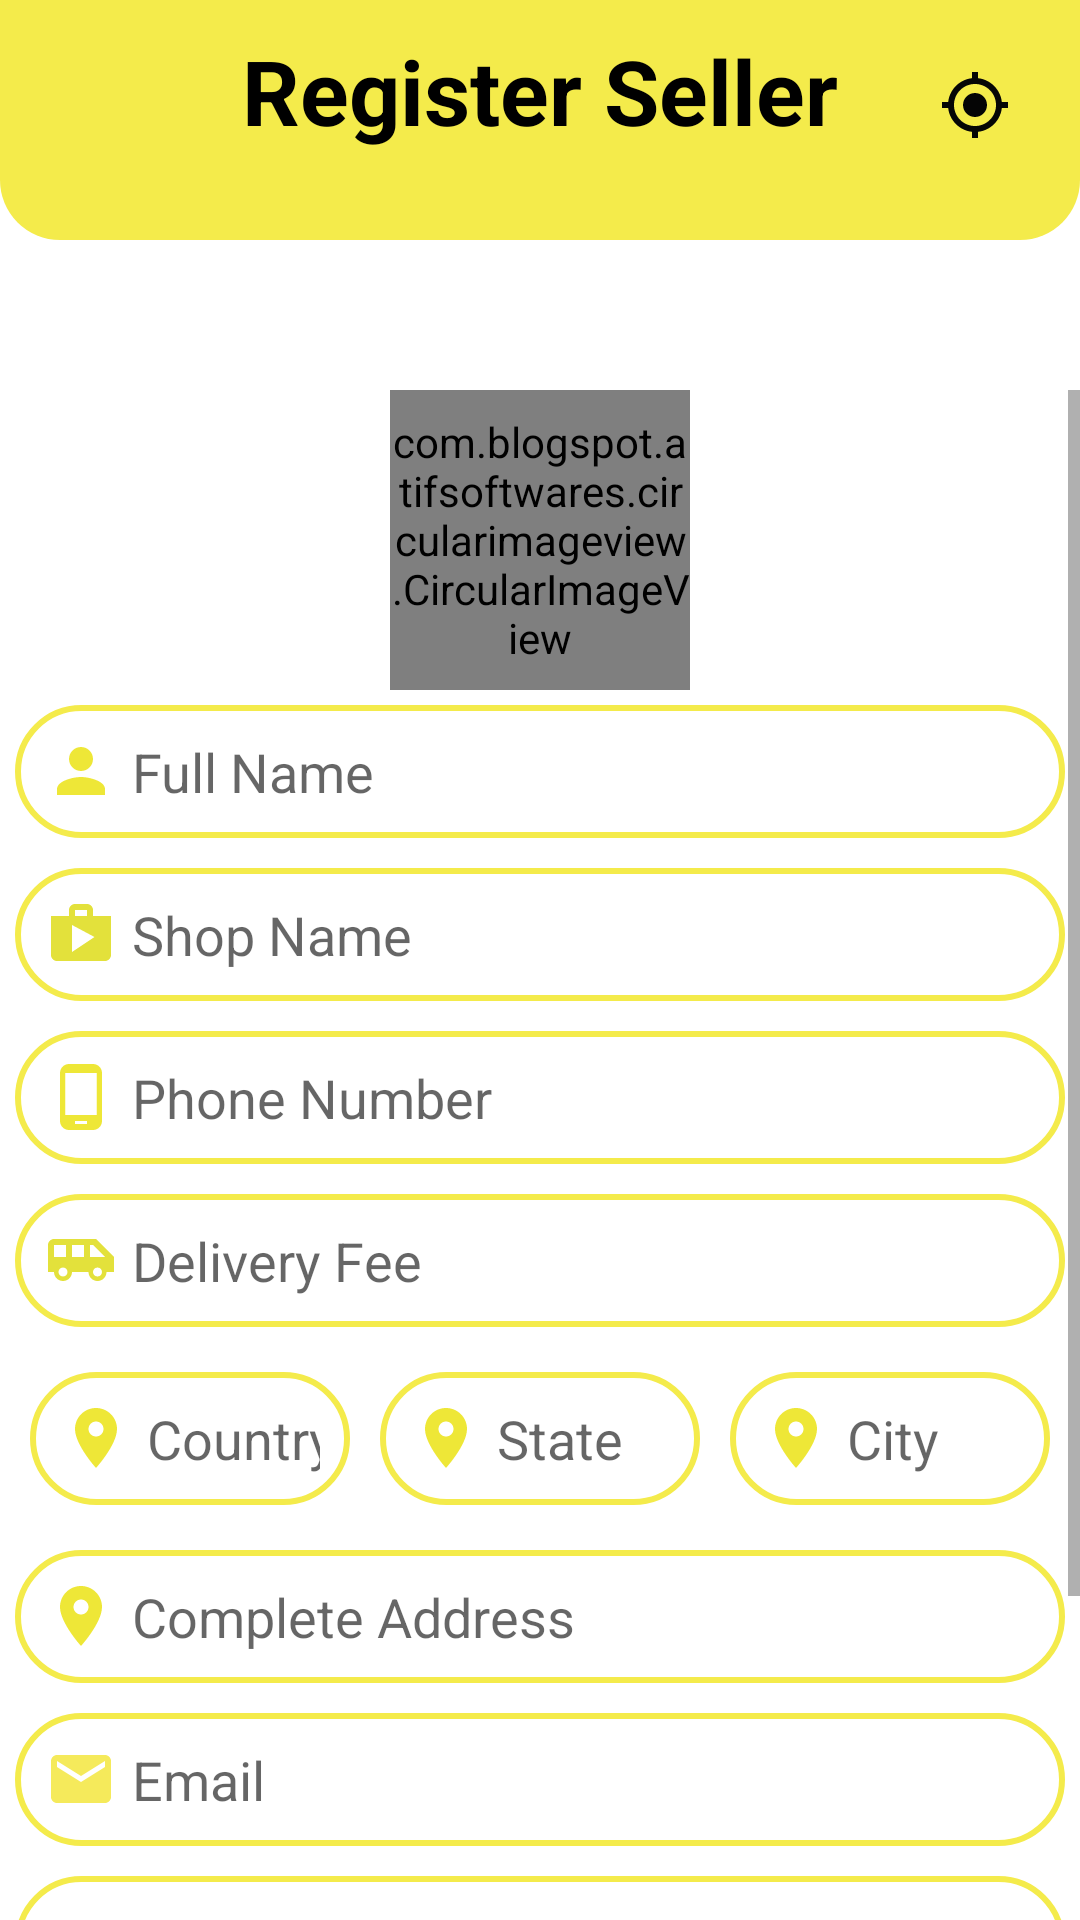

Locate icon controls on the screen. Image size 1080px x 1920px, boxes as (x1, y1, x2, y2).
gps fixed: (942, 72, 1008, 138)
